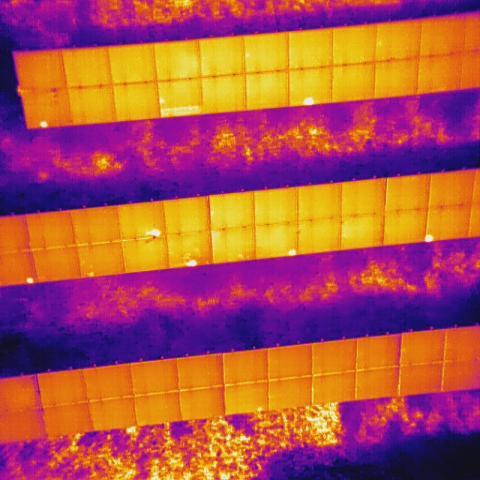fault: (160, 105, 203, 119), (184, 258, 200, 269), (146, 226, 160, 238), (423, 232, 435, 246), (300, 96, 315, 107), (38, 119, 50, 129), (87, 269, 97, 279), (25, 275, 34, 286), (286, 247, 296, 256)
